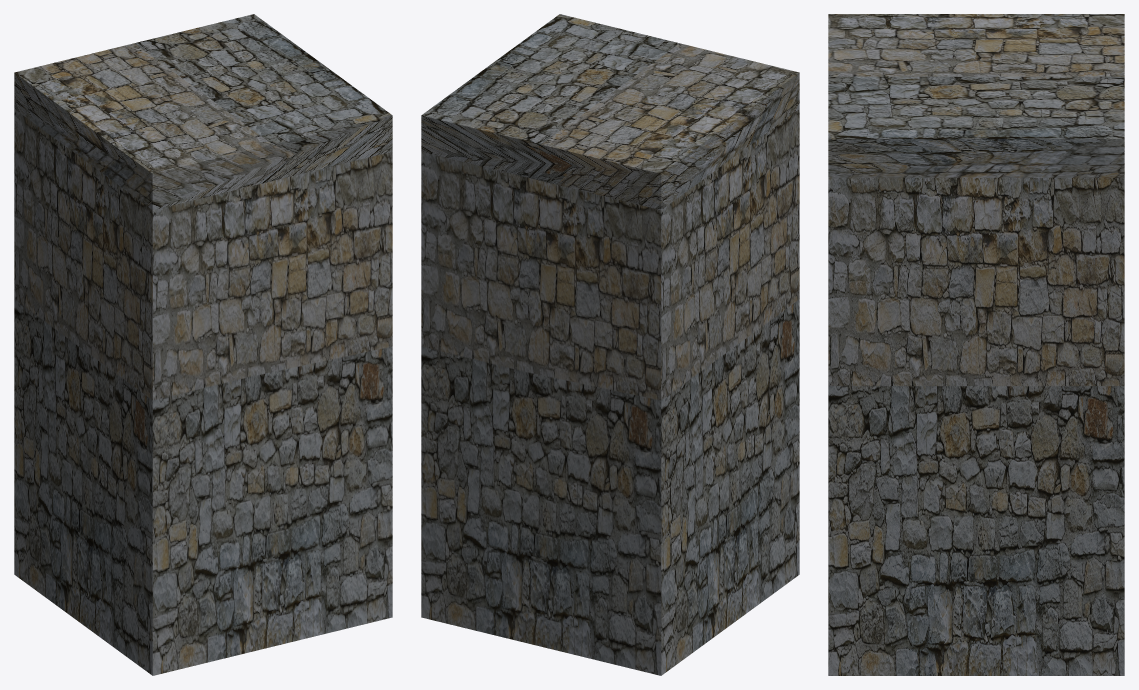
The model's file is foundation.glb.
The picture shows the model from 3 angles, left to right: view 1: azimuth 30°, elevation 25°; view 2: azimuth 150°, elevation 25°; view 3: azimuth 270°, elevation 25°; orthographic projection. The views are drawn at different scales.
Parts seen in each view (by area): view 1: Cube; view 2: Cube; view 3: Cube.
Boxes of the visible parts, x1,y1,x2,y2 form: Cube: (14,14,392,675); Cube: (421,14,799,675); Cube: (828,14,1124,675).
Size of the model in its own units: 1 by 2 by 1.
Materials: 1 (1 with a texture image).
